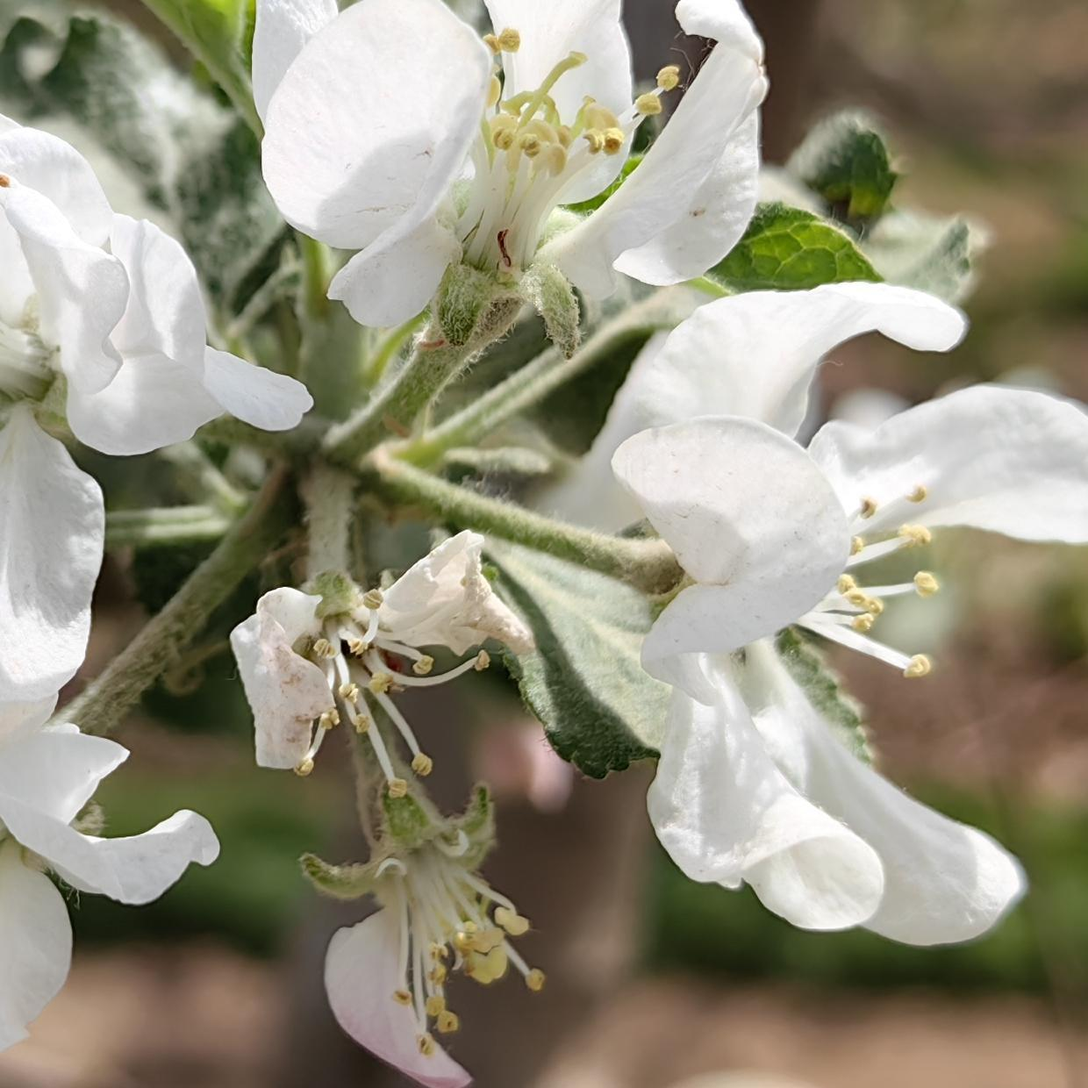apple_flower: (235, 0, 1088, 1088), (0, 111, 312, 703), (0, 697, 218, 1054)
